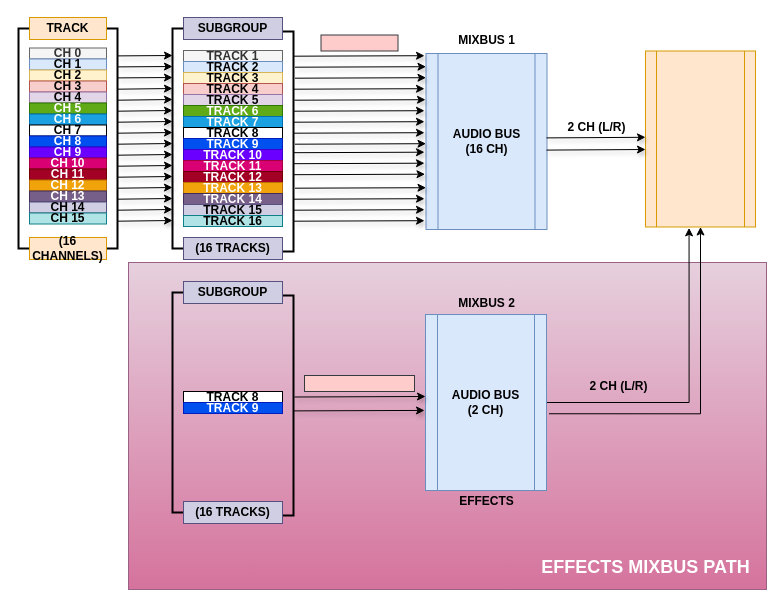
Some shapes in this 784 by 607 pixel diagram are drawn without their labels. The centre of each missing label's shape, as x and y in pixels:
AUX SEND 1: (359,42)
AUX SEND 2: (359,383)
MASTER BUS: (700,138)
